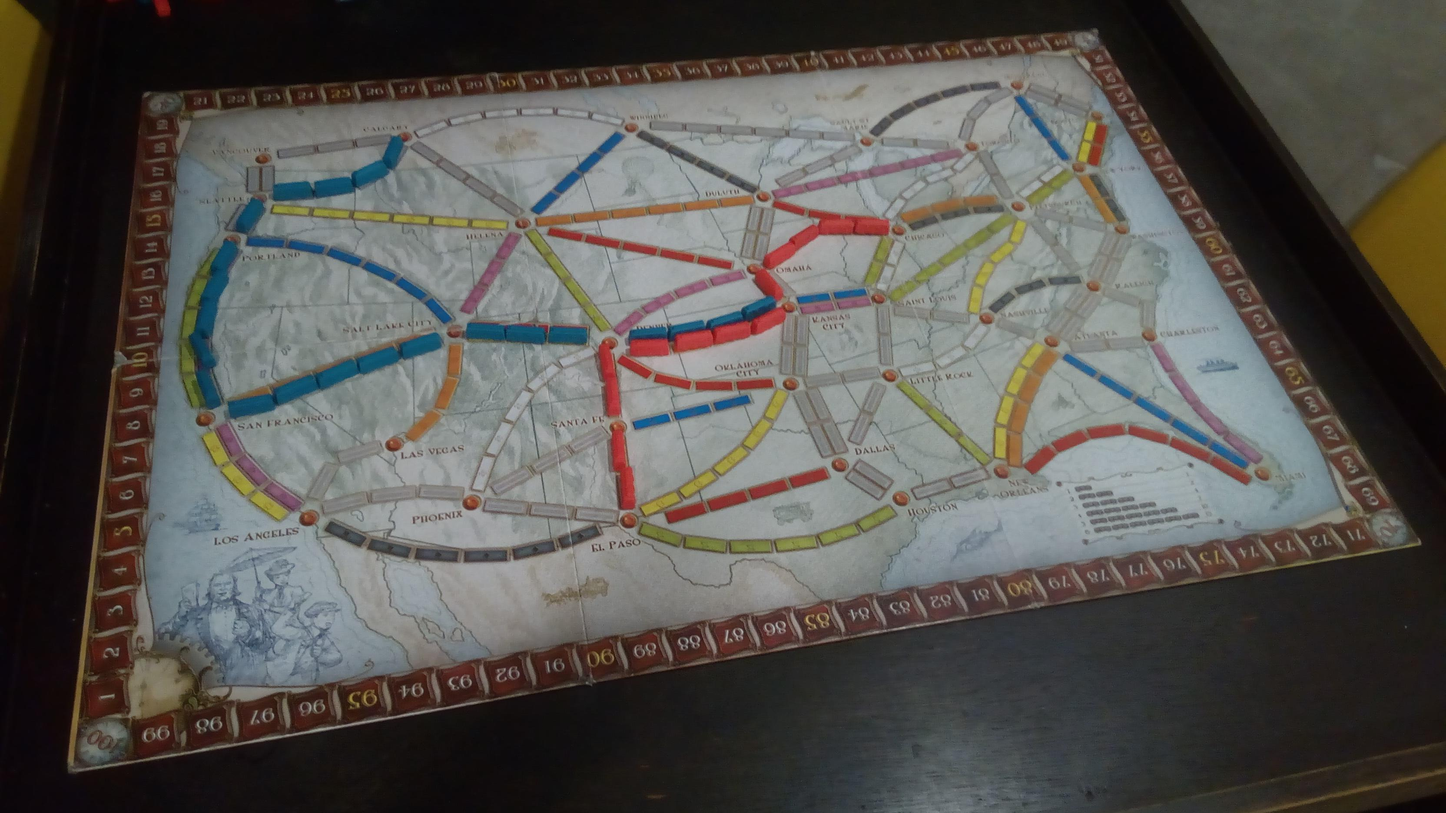blue_train: (228, 392, 277, 419), (274, 374, 318, 404), (316, 360, 358, 388), (357, 347, 401, 373), (400, 333, 443, 358), (196, 368, 222, 409), (351, 160, 389, 188), (235, 199, 265, 233), (188, 332, 216, 368), (210, 241, 239, 275), (193, 301, 217, 338), (314, 176, 354, 197), (741, 297, 776, 319), (382, 136, 405, 169), (202, 274, 228, 303), (506, 325, 545, 344), (273, 182, 314, 200), (706, 311, 744, 330), (547, 326, 587, 344), (467, 323, 505, 341), (668, 320, 705, 338), (629, 325, 668, 340)
red_train: (713, 321, 751, 344), (752, 308, 785, 334), (755, 270, 784, 299), (673, 330, 713, 351), (764, 243, 796, 268), (618, 466, 636, 509), (629, 338, 670, 356), (598, 344, 617, 380), (610, 431, 627, 471), (853, 218, 890, 235), (605, 376, 620, 416), (818, 218, 853, 235), (790, 226, 818, 247)
